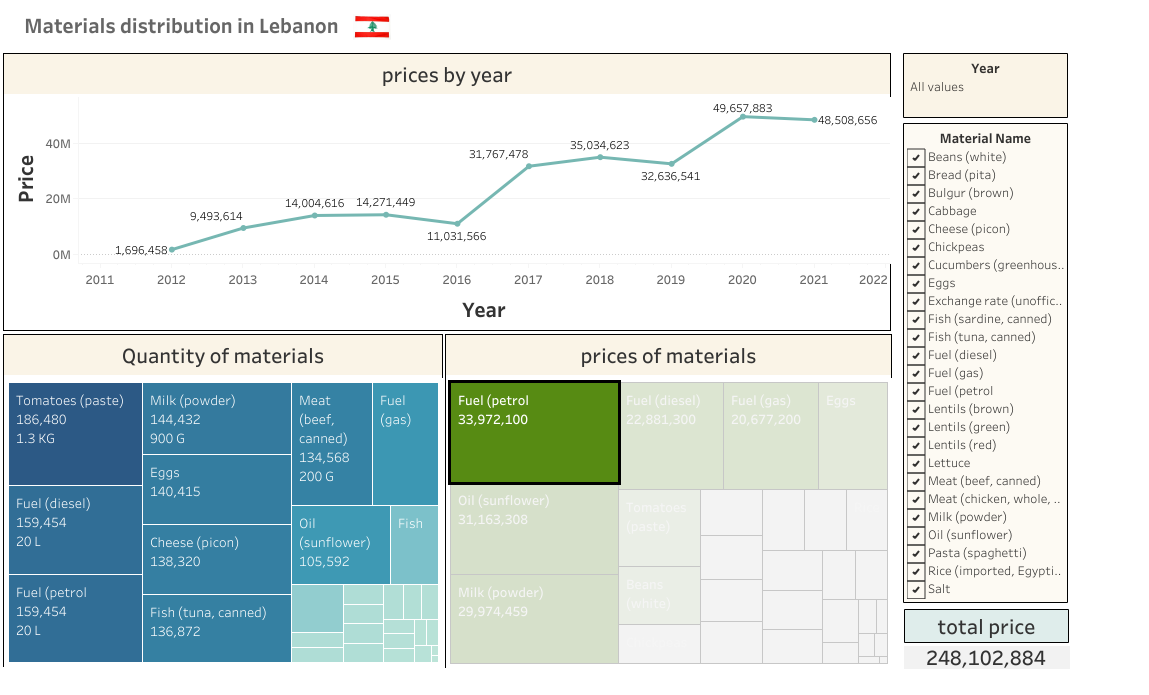

What the dashboard file says about the page in this screenshot:
{"tool":"tableau","page":{"name":"Dashboard 1","canvas":[1000,1000],"units":"permille","ordinal":0},"visuals":[{"type":"image","param":"Image/41b2VAGaikL._UF894,1000_QL80_.jpg","box":[307,11,85.2,55.2]},{"type":"worksheet","title":"prices by year","mark":"Automatic","rows":["price"],"cols":["year"],"box":[2.6,75.9,772.2,400]},{"type":"filter","title":"prices by year","param":"[federated.1nruph00980ny913fvd3111k8qax].[tyr:year:qk]","box":[785.2,75.9,143.5,93.8]},{"type":"filter","title":"prices of materials","param":"[federated.1nruph00980ny913fvd3111k8qax].[none:material_name:nk]","box":[785.2,176.6,143.5,689.7]},{"type":"worksheet","title":"quantity of materials","mark":"Automatic","box":[2.6,480,382.6,478.6]},{"type":"worksheet","title":"prices of materials","mark":"Automatic","box":[387,480,388.7,480]},{"type":"worksheet","title":"total price","mark":"Automatic","box":[786.1,874.5,143.5,85.5]}]}

Visuals, with their boxes on the dashboard's canvas, which has no fixed pixel size, in thousandths of its width and height (x1, y1, x2, y2). These are canvas units, not pixel positions in the 1149x695 screenshot, which may show the page scaled, cropped or inside an application window:
image: 307:11:392:66
"prices by year" worksheet: 3:76:775:476
"prices by year" filter: 785:76:929:170
"prices of materials" filter: 785:177:929:866
"quantity of materials" worksheet: 3:480:385:959
"prices of materials" worksheet: 387:480:776:960
"total price" worksheet: 786:874:930:960
